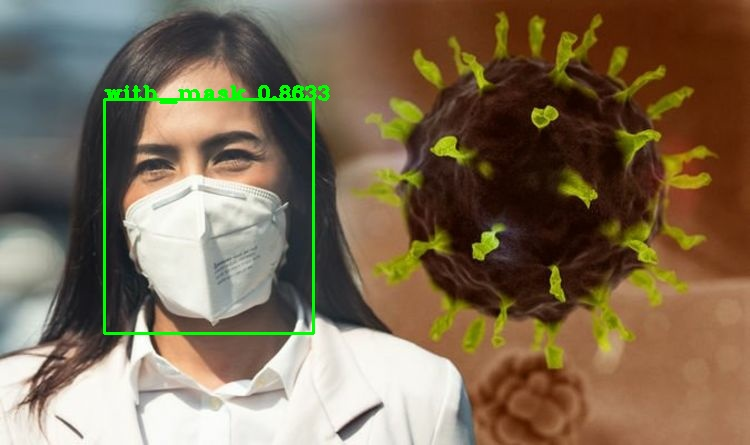with_mask: (115, 70, 317, 334)
